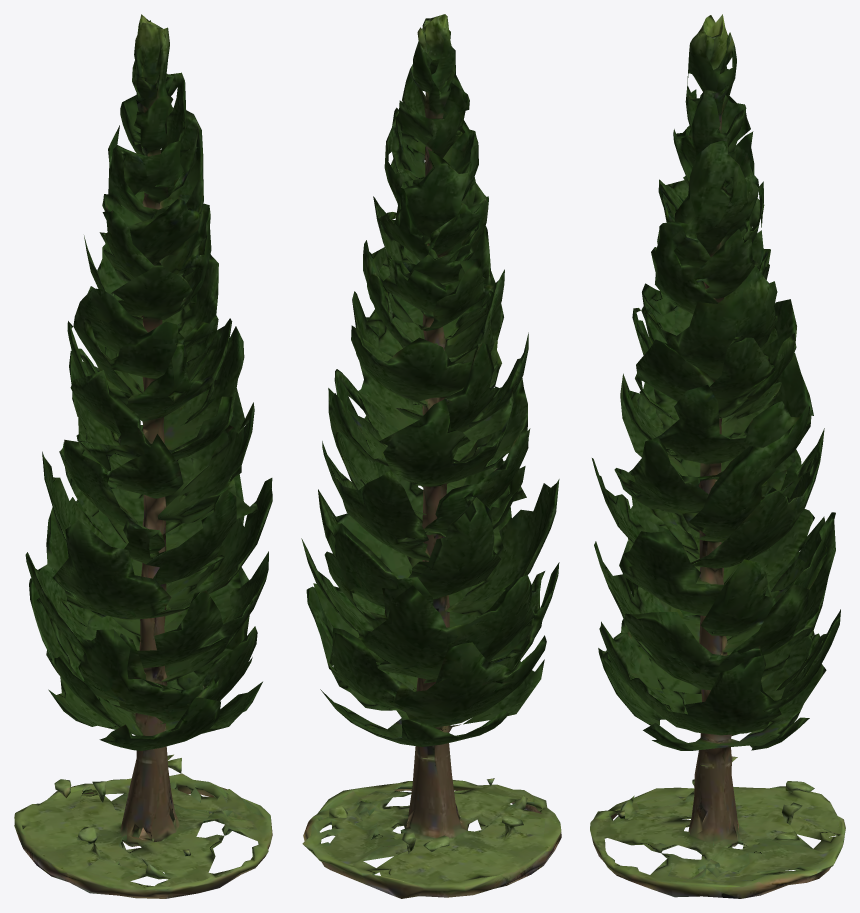
File: cypress.glb
The picture shows the model from 3 angles, left to right: view 1: azimuth 30°, elevation 25°; view 2: azimuth 150°, elevation 25°; view 3: azimuth 270°, elevation 25°; orthographic projection.
Visible parts, largest first — view 1: geometry_0; view 2: geometry_0; view 3: geometry_0.
Part boxes in pixels (left/top/right/bottom): geometry_0: left=14, top=14, right=272, bottom=898; geometry_0: left=301, top=14, right=561, bottom=898; geometry_0: left=590, top=14, right=845, bottom=898.
Bounding box in the file's own units: 0.2635 × 0.9745 × 0.2702.
1 material, 1 textured.
